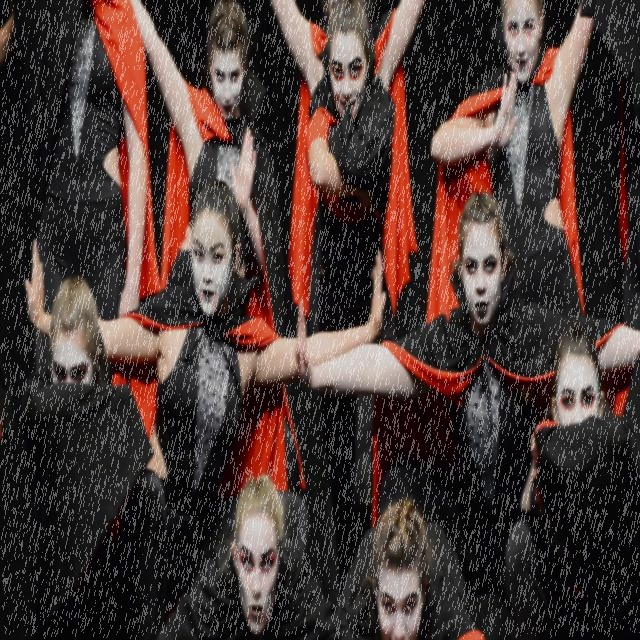pessoa: (21, 170, 394, 640), (291, 185, 639, 639), (129, 0, 290, 428), (300, 0, 400, 640), (24, 0, 162, 444), (429, 0, 600, 322), (15, 273, 144, 639), (501, 314, 640, 640), (155, 472, 345, 640), (338, 496, 477, 640), (270, 0, 337, 101), (372, 0, 427, 98)
